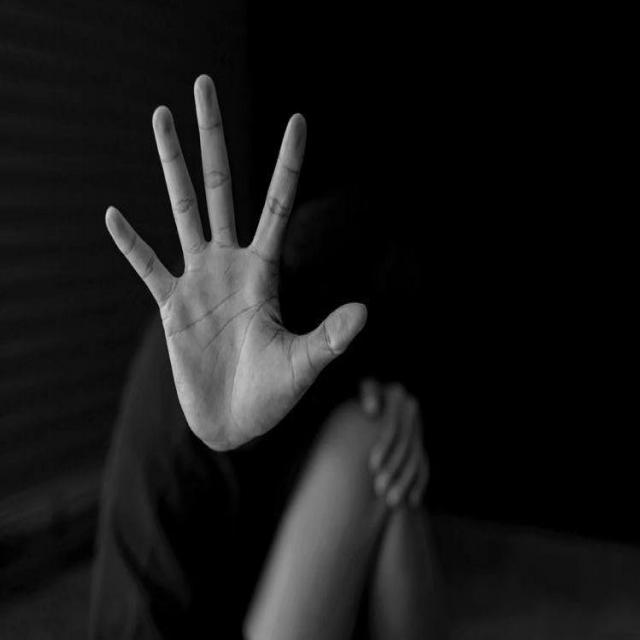stop: (100, 66, 373, 458)
